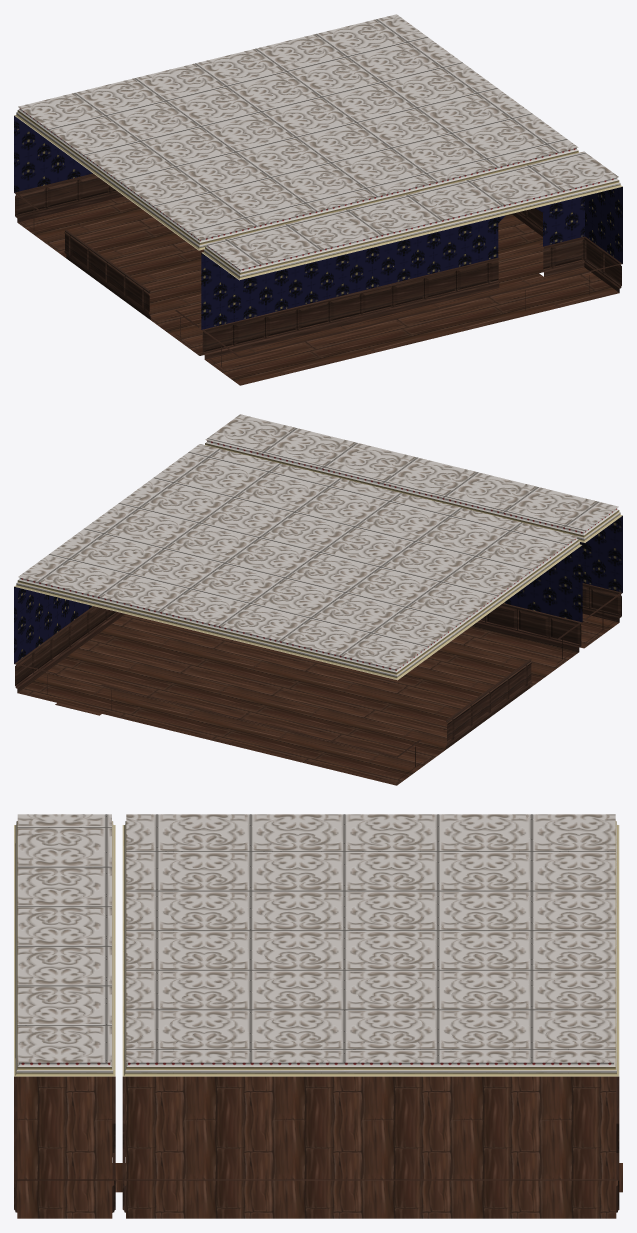
Rendered from Master_Bedroom_FINAL.fbx.
The picture shows the model from 3 angles, top to bottom: view 1: azimuth 30°, elevation 25°; view 2: azimuth 150°, elevation 25°; view 3: azimuth 270°, elevation 25°; orthographic projection. The views are drawn at different scales.
Visible parts, largest first — view 1: Object047; view 2: Object047; view 3: Object047.
Boxes of the visible parts, <box> form: Object047: <box>14,14,622,385</box>; Object047: <box>14,414,622,785</box>; Object047: <box>14,814,622,1218</box>.
Size of the model in its own units: 1197 by 346 by 1224.
